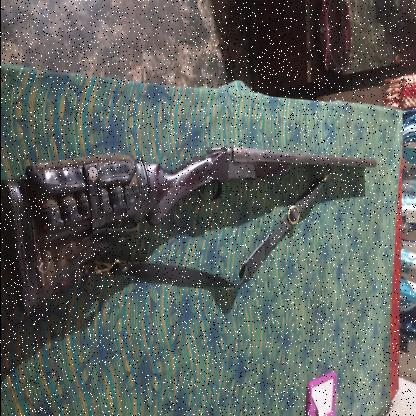rifle: (0, 143, 378, 319)
